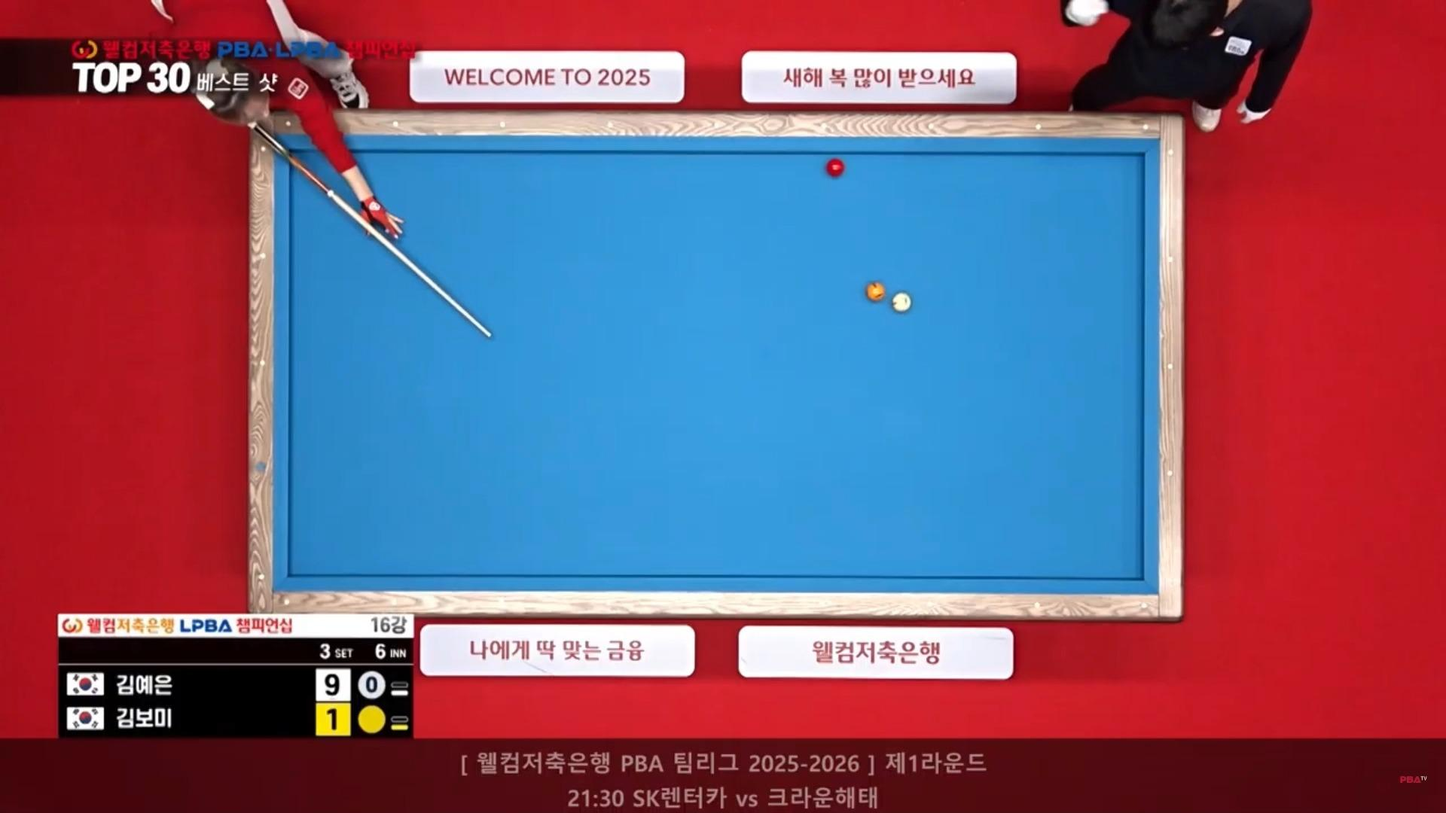Red: (822, 160, 845, 179)
White: (890, 293, 913, 313)
Yellow: (865, 284, 889, 303)
